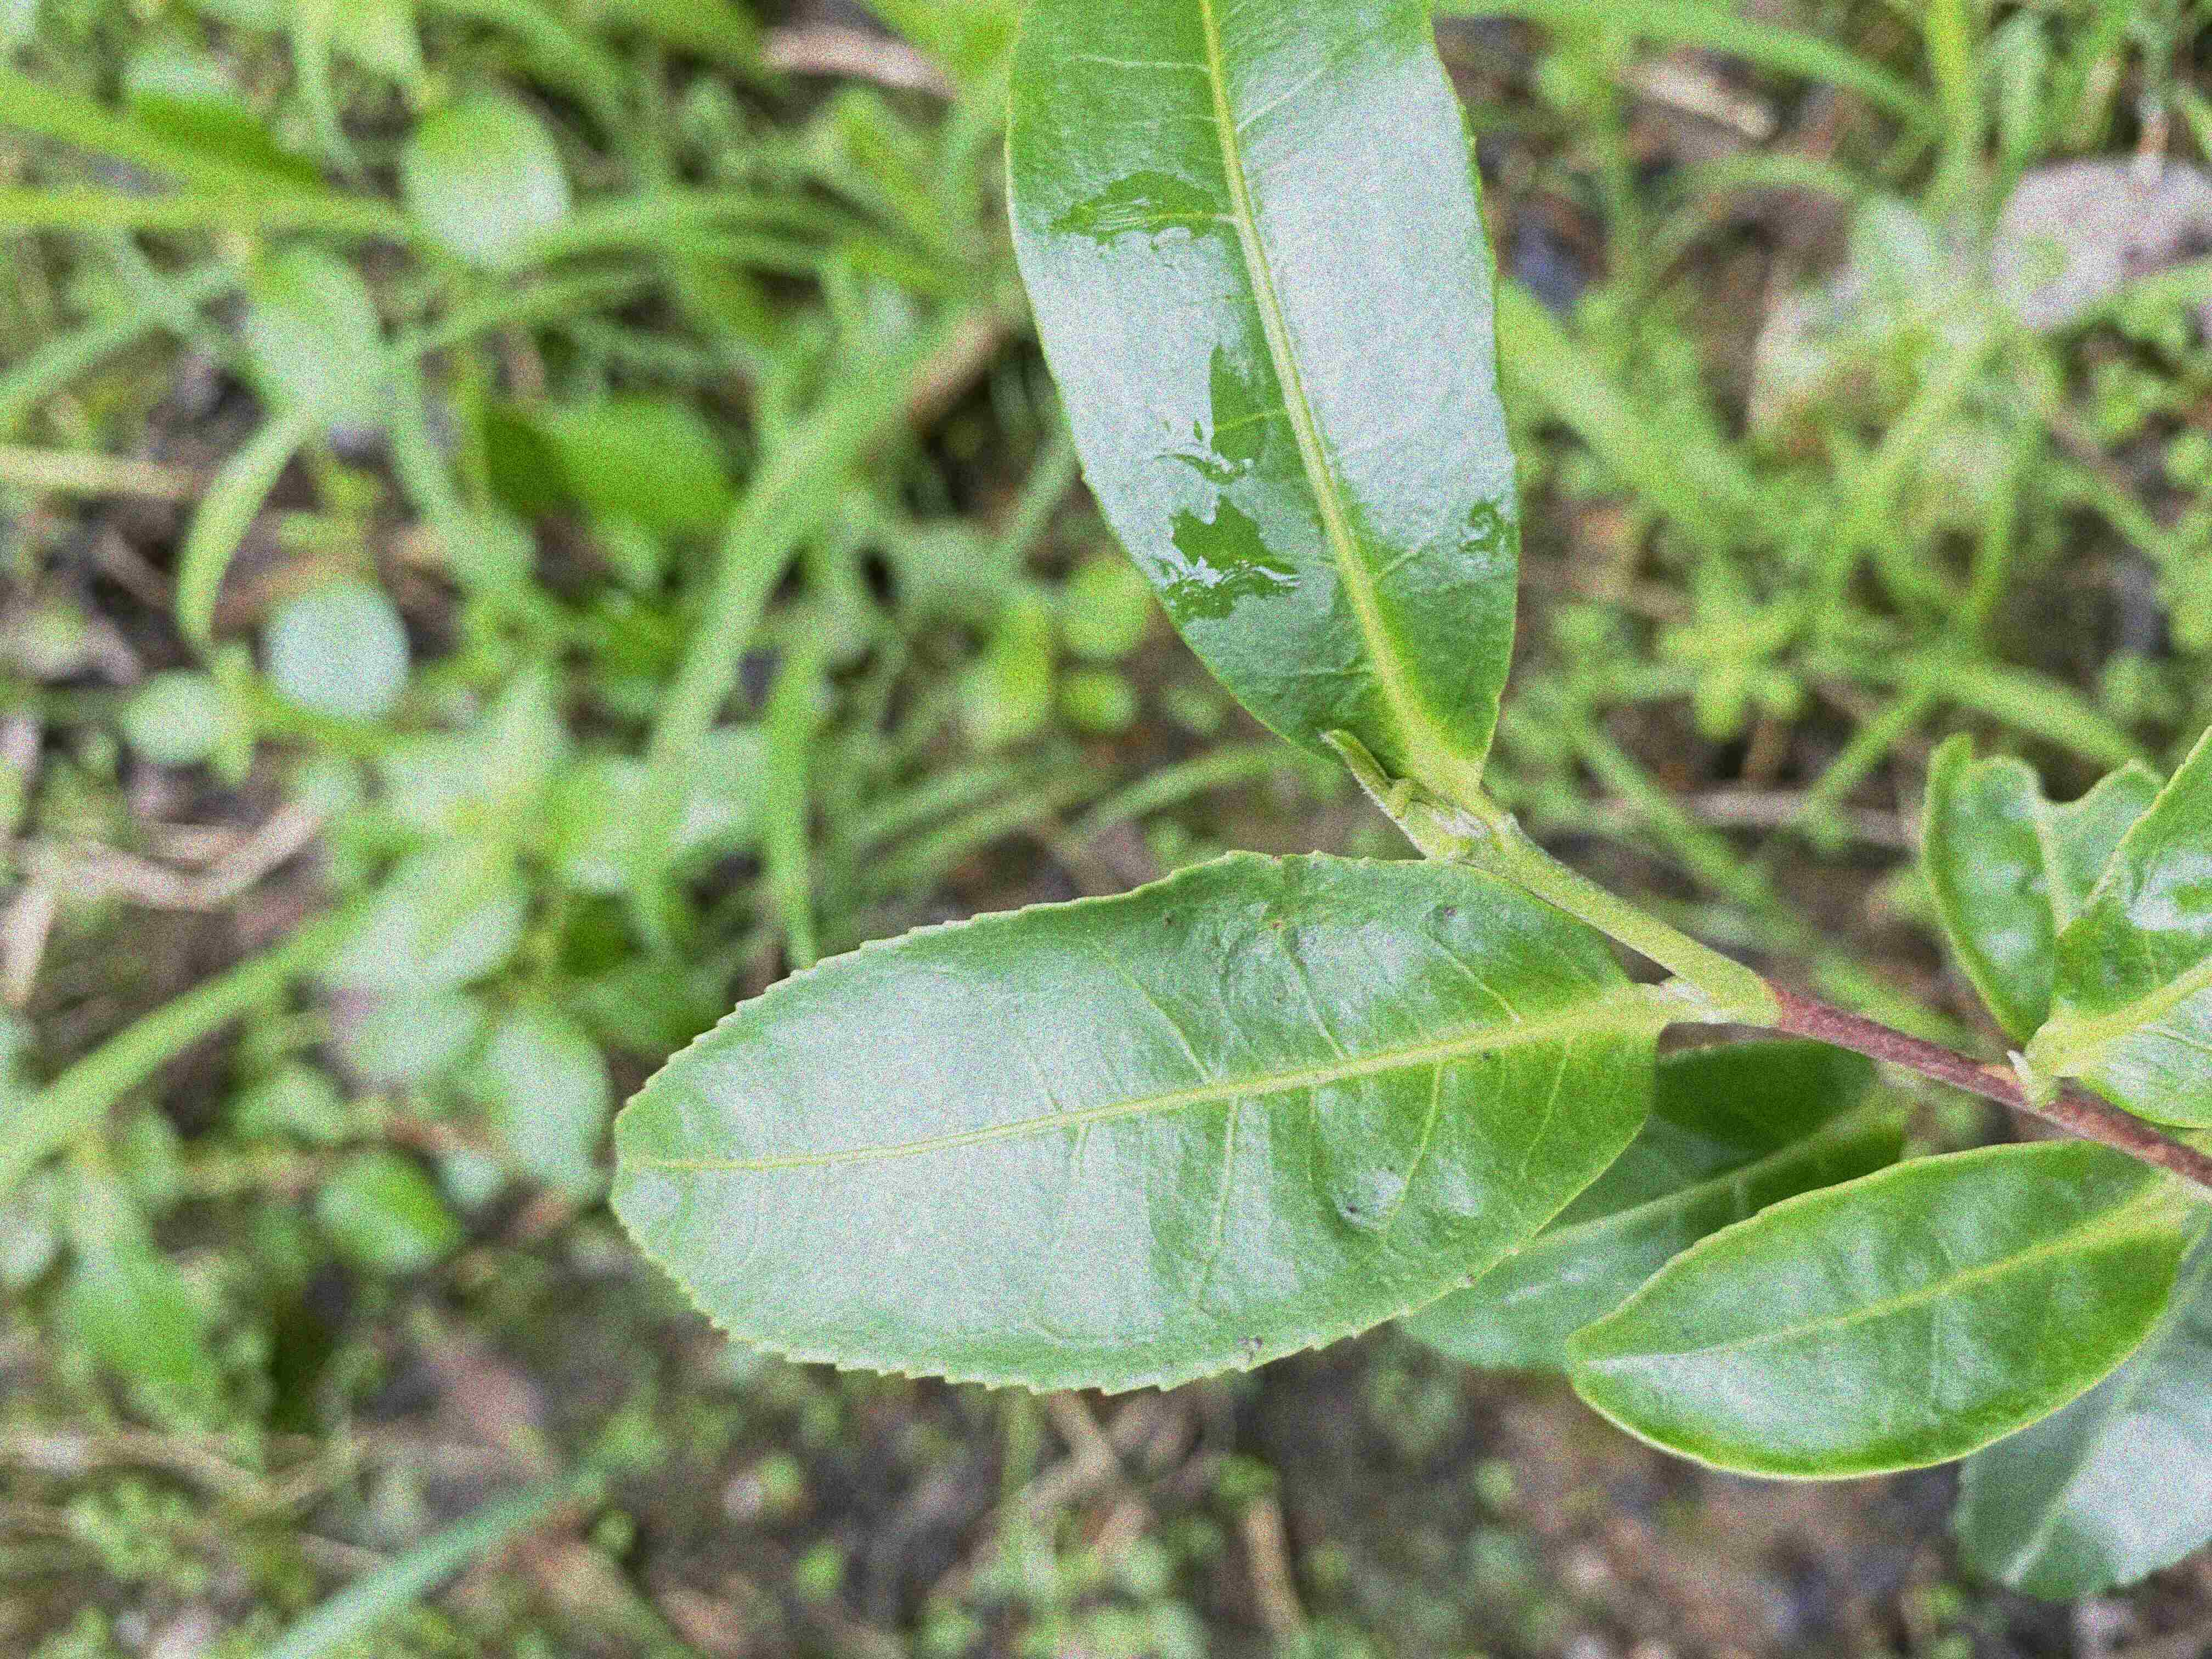chihuo_high: (1918, 730, 2168, 1049)
healthy: (604, 843, 1653, 1396), (1000, 2, 1533, 795), (1562, 1134, 2189, 1486)
